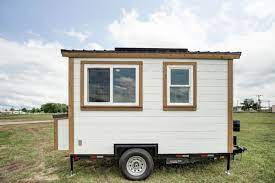Tin-shade House: (50, 39, 248, 173)
